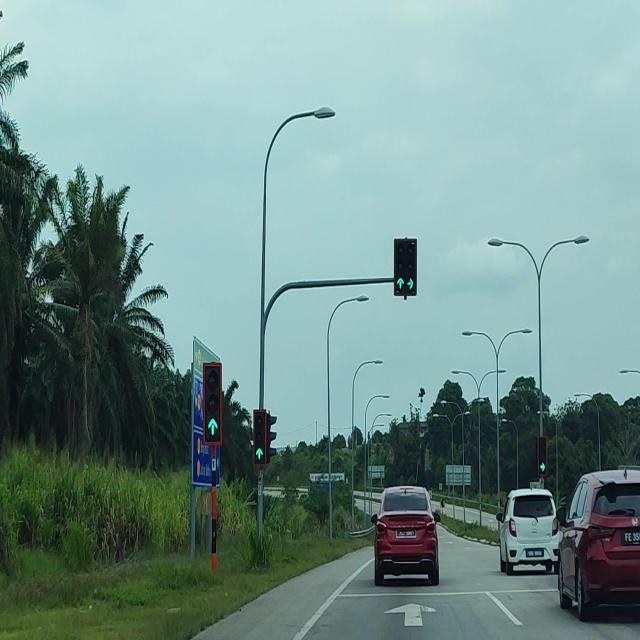green_light: (203, 363, 221, 444), (394, 238, 407, 294), (406, 238, 417, 298), (254, 410, 266, 462), (538, 436, 548, 476)
